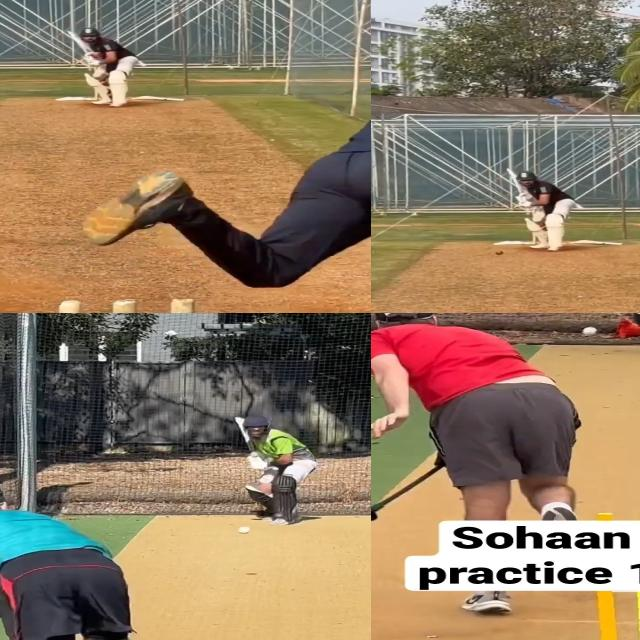Cricket ball: (581, 326, 599, 337), (237, 525, 252, 534), (91, 52, 102, 58), (494, 250, 503, 255)
Stumps: (578, 590, 640, 640)
